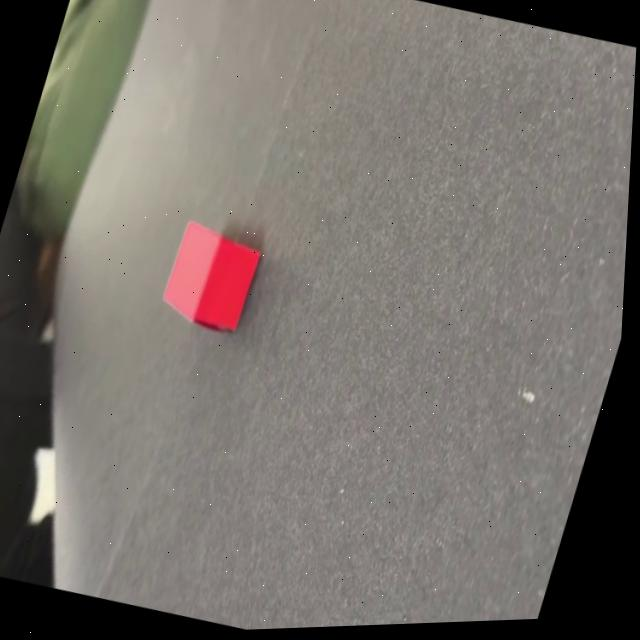red block: (153, 215, 267, 340)
